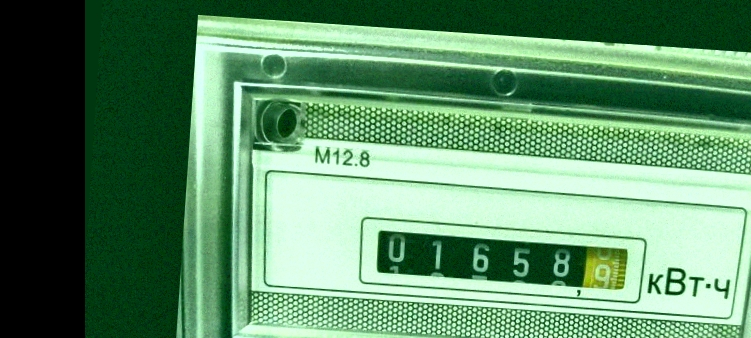0: (385, 232, 407, 263)
1: (428, 237, 447, 270)
5: (510, 245, 533, 277)
6: (470, 239, 492, 274)
8: (551, 245, 573, 278)
9: (590, 261, 613, 291)
screen: (347, 207, 652, 310)
